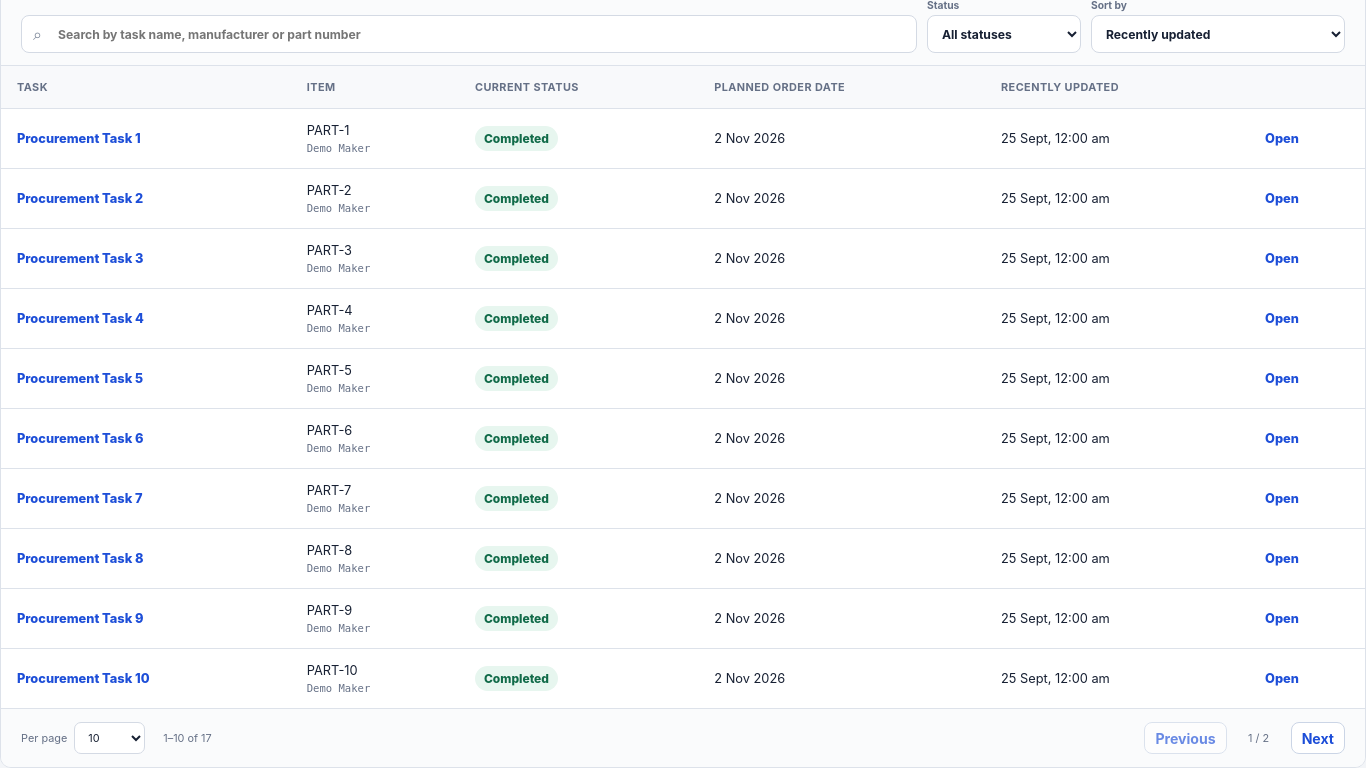
it: Task Centre分页 › 默认Per page十条，并可切换为十五条后继续服务端翻页
(page scrolled)
Expected: the link "Procurement Task 10" is shown, x1=17 y1=672 x2=150 y2=686
Expected: the text "Procurement Task 11" is not shown
Select "15" in the dropdown named "Tasks per page" at (110, 738), box x1=74 y1=722 x2=145 y2=754
(page scrolled)
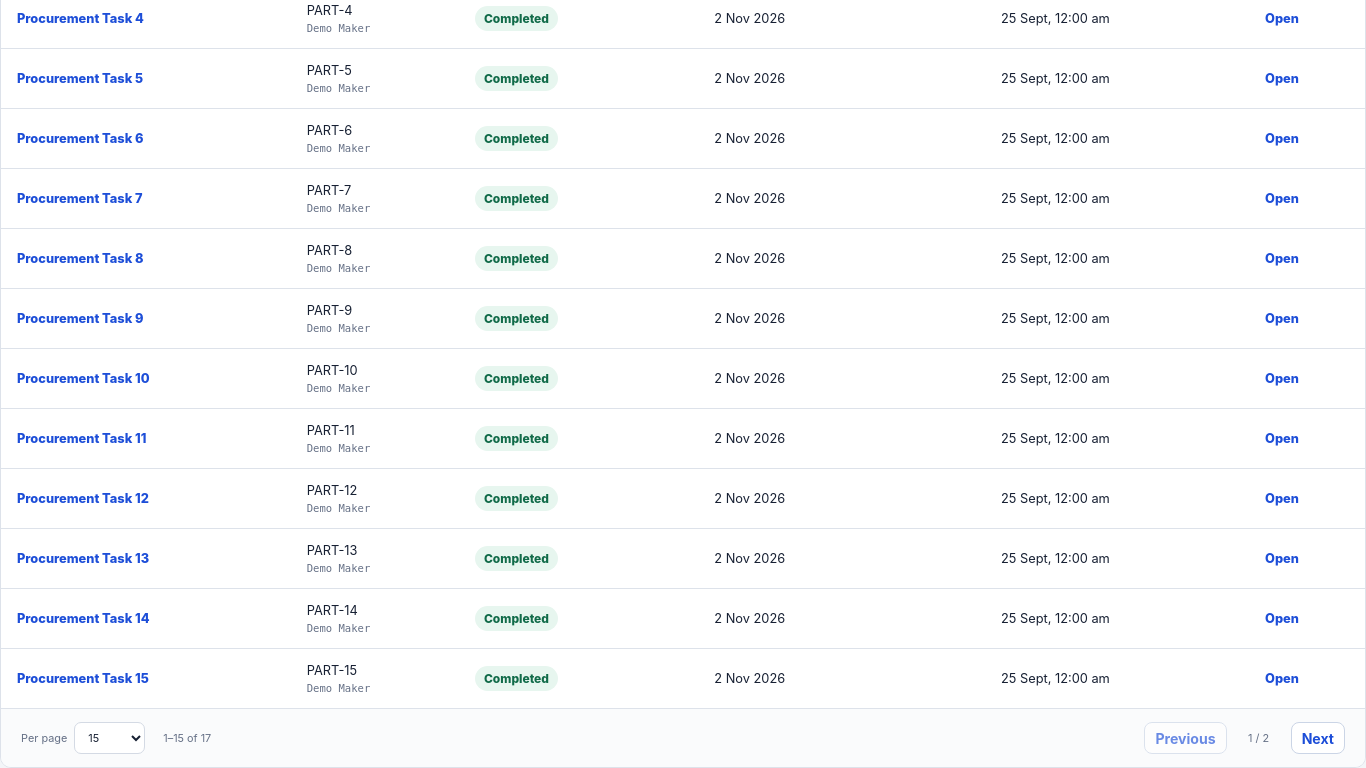
Expected: the text "Procurement Task 16" is not shown
Now the link "Procurement Task 15" is shown, box x1=17 y1=672 x2=149 y2=686
Click the button "Next".
click(1318, 738)  # box x1=1291 y1=722 x2=1345 y2=754
(page scrolled)
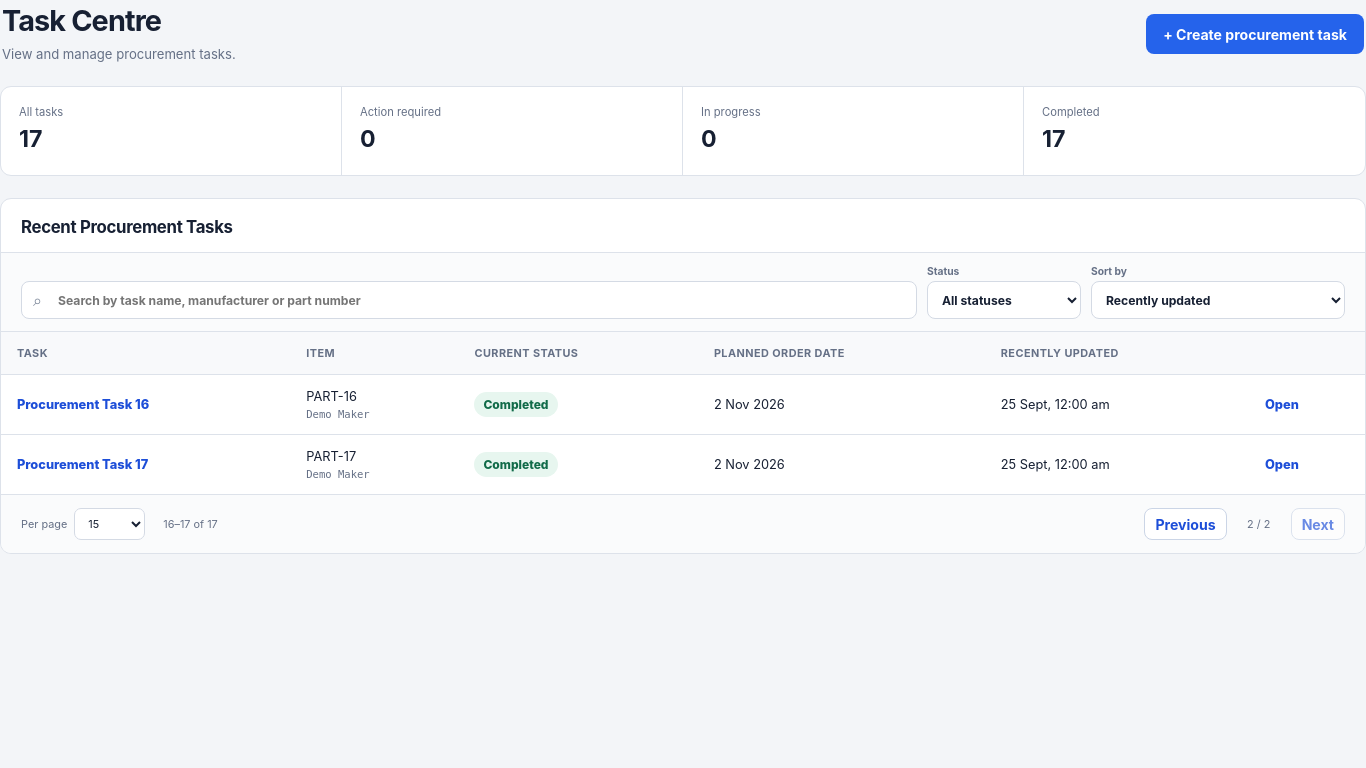
Now the link "Procurement Task 16" is shown, box x1=17 y1=398 x2=149 y2=412
Now the text "16–17 of 17" is shown, box x1=163 y1=518 x2=218 y2=532
